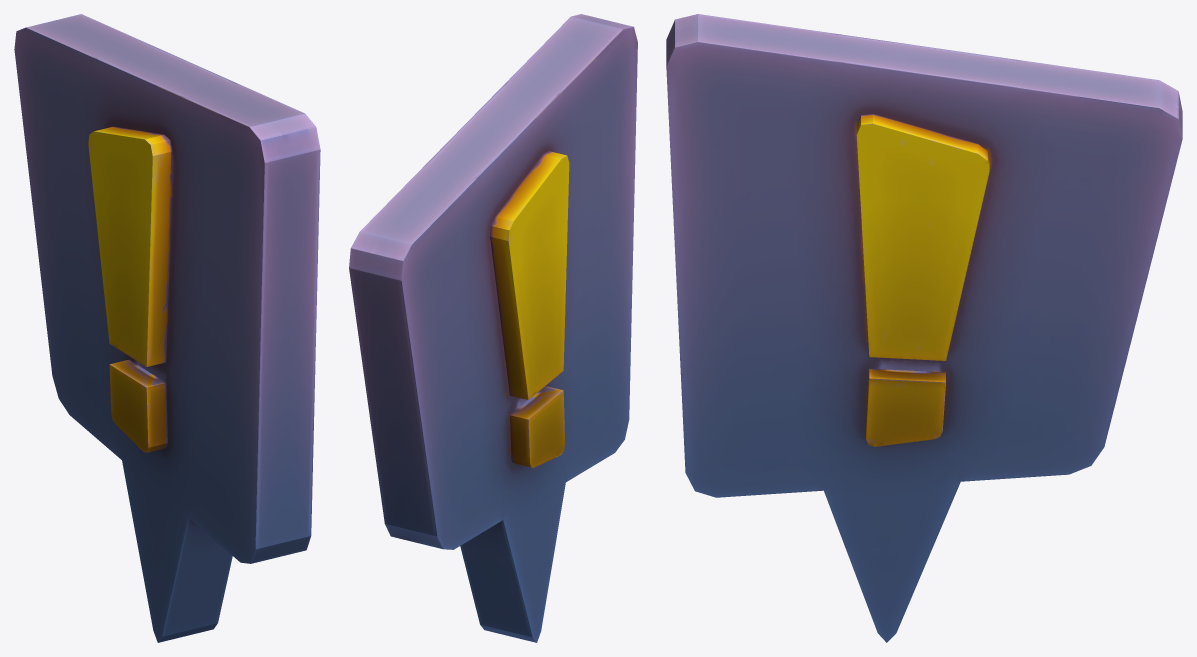
Rendered from ExclamationMarkBubble2.dae.
The picture shows the model from 3 angles, left to right: view 1: azimuth 30°, elevation 25°; view 2: azimuth 150°, elevation 25°; view 3: azimuth 270°, elevation 25°; orthographic projection. The views are drawn at different scales.
Visible parts, largest first — view 1: Cube; view 2: Cube; view 3: Cube.
Boxes of the visible parts, x1,y1,x2,y2 form: Cube: (14, 14, 320, 642); Cube: (349, 14, 637, 642); Cube: (666, 14, 1182, 642).
Bounding box in the file's own units: 0.5493 × 2.5 × 3.22.
Materials: 1 (1 with a texture image).
